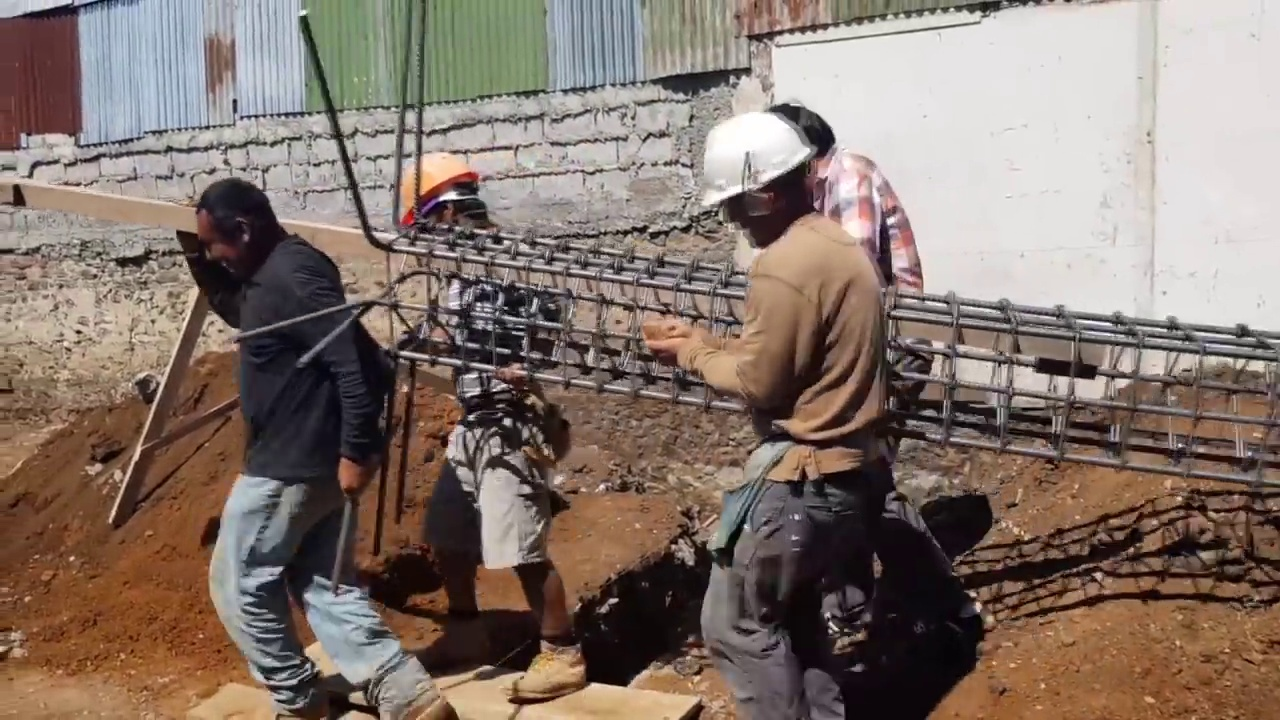helmet: (698, 106, 827, 201), (393, 153, 478, 221)
helmet-off: (191, 176, 282, 278), (770, 104, 841, 169)
helmet-on: (696, 102, 824, 255), (395, 152, 493, 245)
person: (633, 90, 915, 720), (175, 168, 409, 720), (393, 147, 592, 699), (770, 95, 926, 327)
